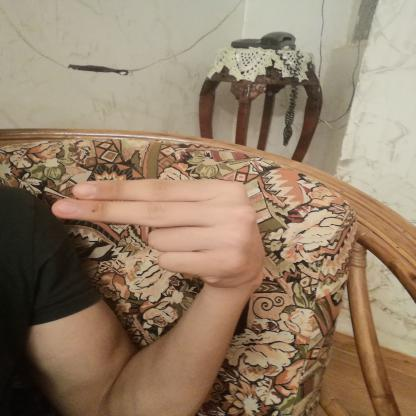AYN: (27, 163, 291, 303)
